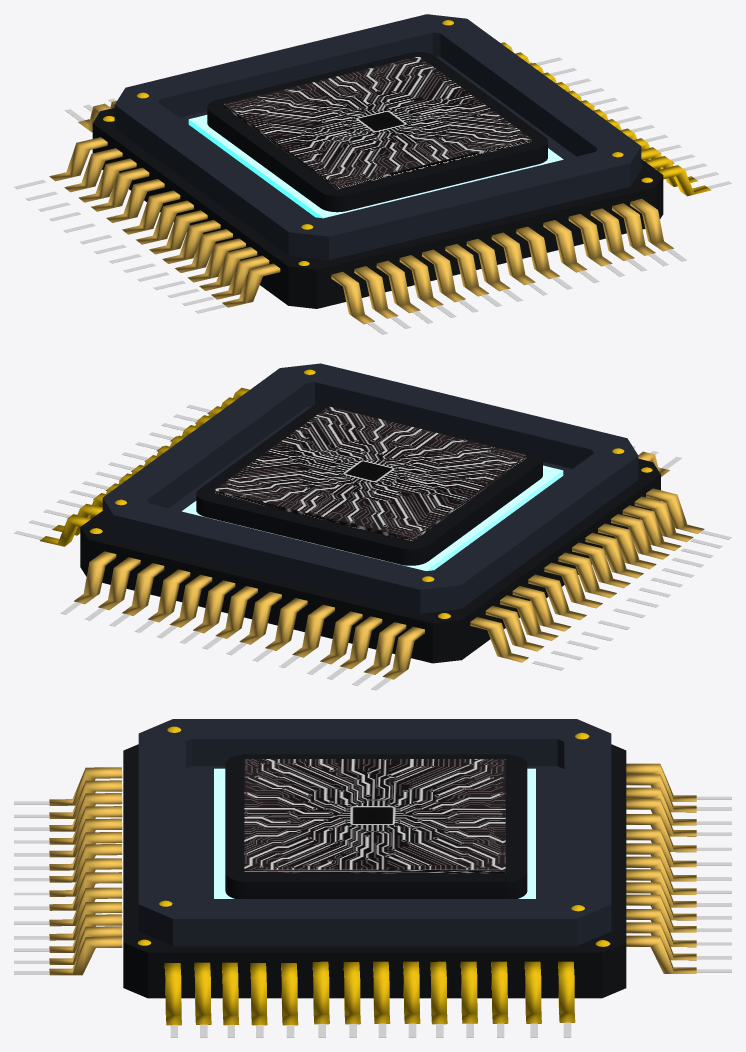
File: chip.glb
3 renders of one model, top to bottom at view 1: azimuth 30°, elevation 25°; view 2: azimuth 150°, elevation 25°; view 3: azimuth 270°, elevation 25°, orthographic. The views are drawn at different scales.
Visible parts, largest first — view 1: b2, b4, b1, b3, neon, Master_Pin.023, Master_Pin.012, Master_Pin.022, Master_Pin.024, Master_Pin.010, Master_Pin.014, Master_Pin.015 (+22 smaller); view 2: b2, b4, b1, b3, neon, Master_Pin.002, Master_Pin.017, Master_Pin.018, Master_Pin.001, Master_Pin.019, Master_Pin.003, Master_Pin.004 (+22 smaller); view 3: b2, b4, b1, b3, neon, Master_Pin.047, Master_Pin.052, Master_Pin.045, Master_Pin.055, Master_Pin.050, Master_Pin.057, Master_Pin.051 (+35 smaller).
Part boxes in pixels (x1,y1,x2,y2): b2: [114, 14, 641, 260]; b4: [224, 56, 531, 189]; b1: [92, 108, 663, 308]; b3: [207, 52, 547, 212]; neon: [188, 115, 563, 218]; Master_Pin.023: [399, 255, 443, 307]; Master_Pin.012: [491, 232, 535, 285]; Master_Pin.022: [354, 266, 398, 318]; Master_Pin.024: [445, 244, 488, 296]; Master_Pin.010: [590, 208, 634, 260]; Master_Pin.014: [376, 260, 420, 313]; Master_Pin.015: [331, 271, 374, 324]; b2: [102, 363, 638, 613]; b4: [214, 406, 526, 541]; b1: [80, 458, 660, 663]; b3: [196, 403, 542, 565]; neon: [182, 465, 563, 570]; Master_Pin.002: [73, 551, 116, 604]; Master_Pin.017: [148, 569, 190, 622]; Master_Pin.018: [193, 580, 235, 633]; Master_Pin.001: [364, 622, 406, 674]; Master_Pin.019: [239, 591, 281, 644]; Master_Pin.003: [122, 563, 164, 615]; Master_Pin.004: [169, 574, 212, 627]; b2: [138, 719, 611, 946]; b4: [244, 759, 505, 873]; b1: [123, 744, 626, 998]; b3: [225, 754, 527, 898]; neon: [214, 768, 535, 898]; Master_Pin.047: [460, 961, 477, 1023]; Master_Pin.052: [312, 961, 329, 1024]; Master_Pin.045: [524, 961, 541, 1023]; Master_Pin.055: [222, 962, 239, 1025]; Master_Pin.050: [373, 961, 390, 1023]; Master_Pin.057: [164, 963, 181, 1025]; Master_Pin.051: [343, 962, 360, 1024].
Bounding box in the file's own units: 7.32 × 0.9253 × 7.14.
8 materials, 1 textured.
